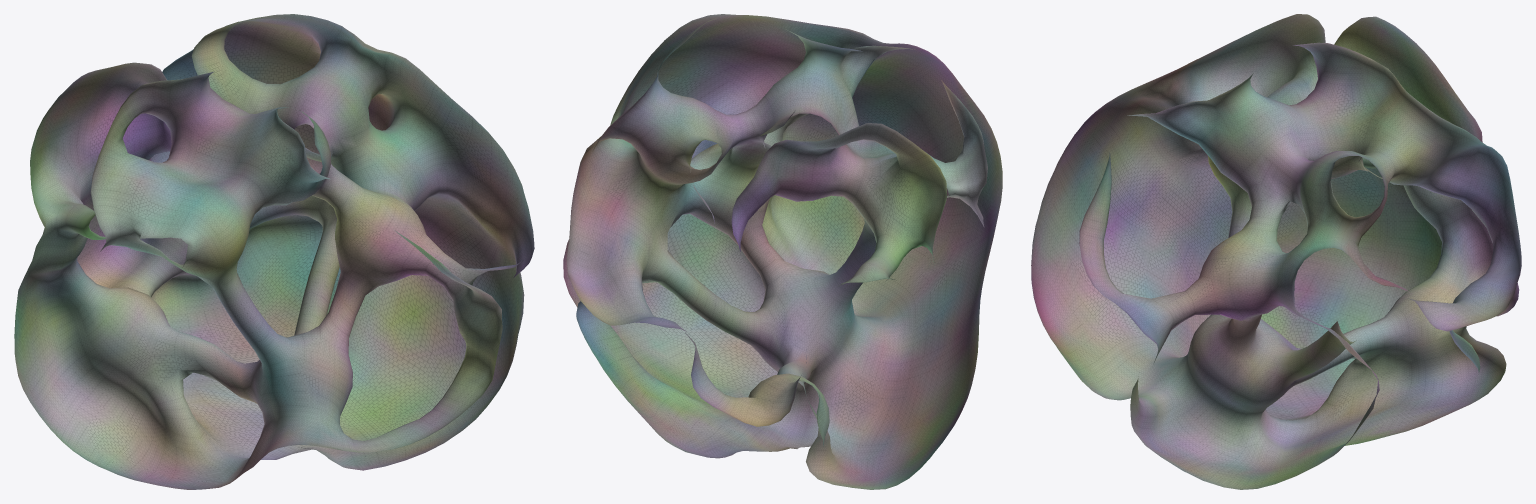
File: inner_nest.glb
3 renders of one model, left to right at view 1: azimuth 30°, elevation 25°; view 2: azimuth 150°, elevation 25°; view 3: azimuth 270°, elevation 25°, orthographic. The views are drawn at different scales.
Visible parts, largest first — view 1: file1; view 2: file1; view 3: file1.
Part boxes in pixels (<box>): file1: <box>14,14,534,489</box>; file1: <box>563,14,1002,489</box>; file1: <box>1031,14,1521,489</box>.
Size of the model in its own units: 75.76 by 73.76 by 80.83.
1 material, 1 textured.
